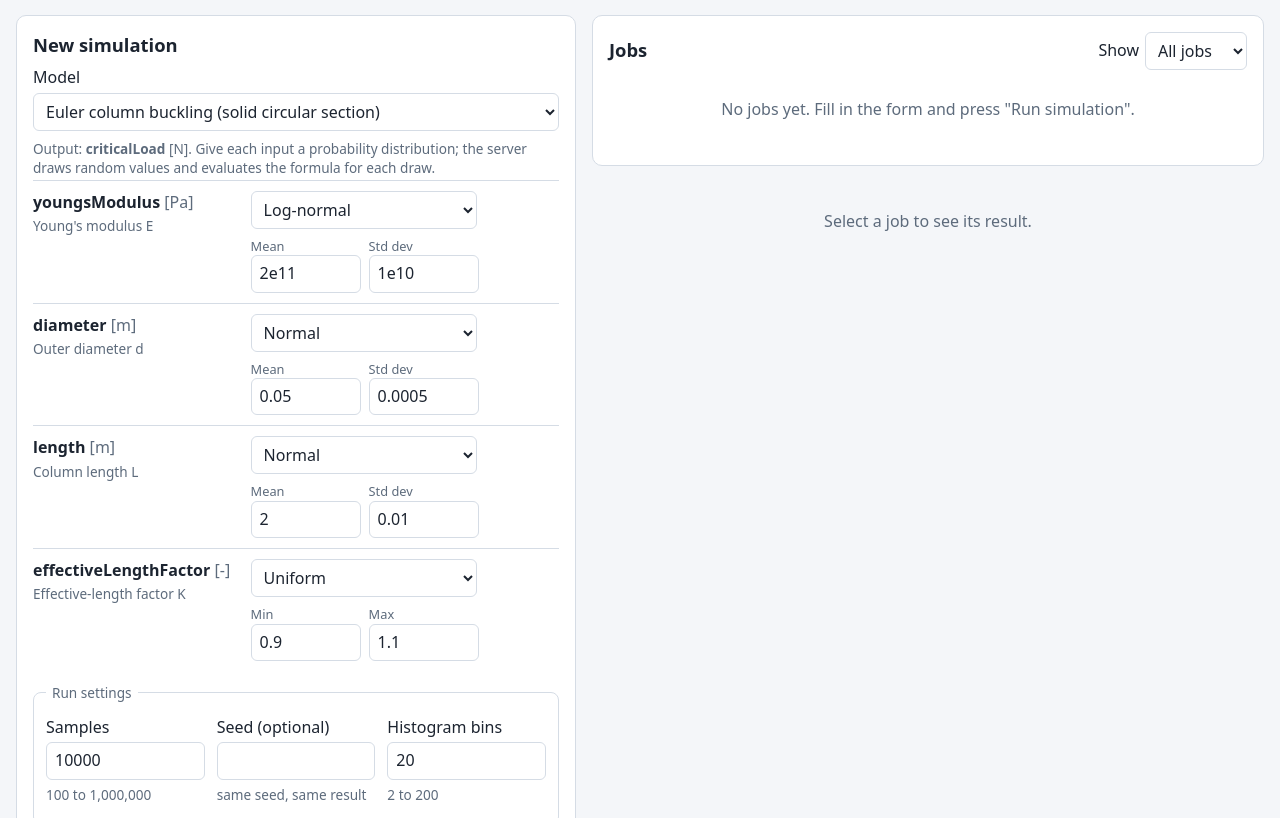
App › checks the values before sending and marks the wrong fields
Expected: the field named "diameter Mean" is shown, [251,378,361,415]
Replace the text in the field labelled "Samples" with "50". click: [125, 761]
box: [46,742,205,780]
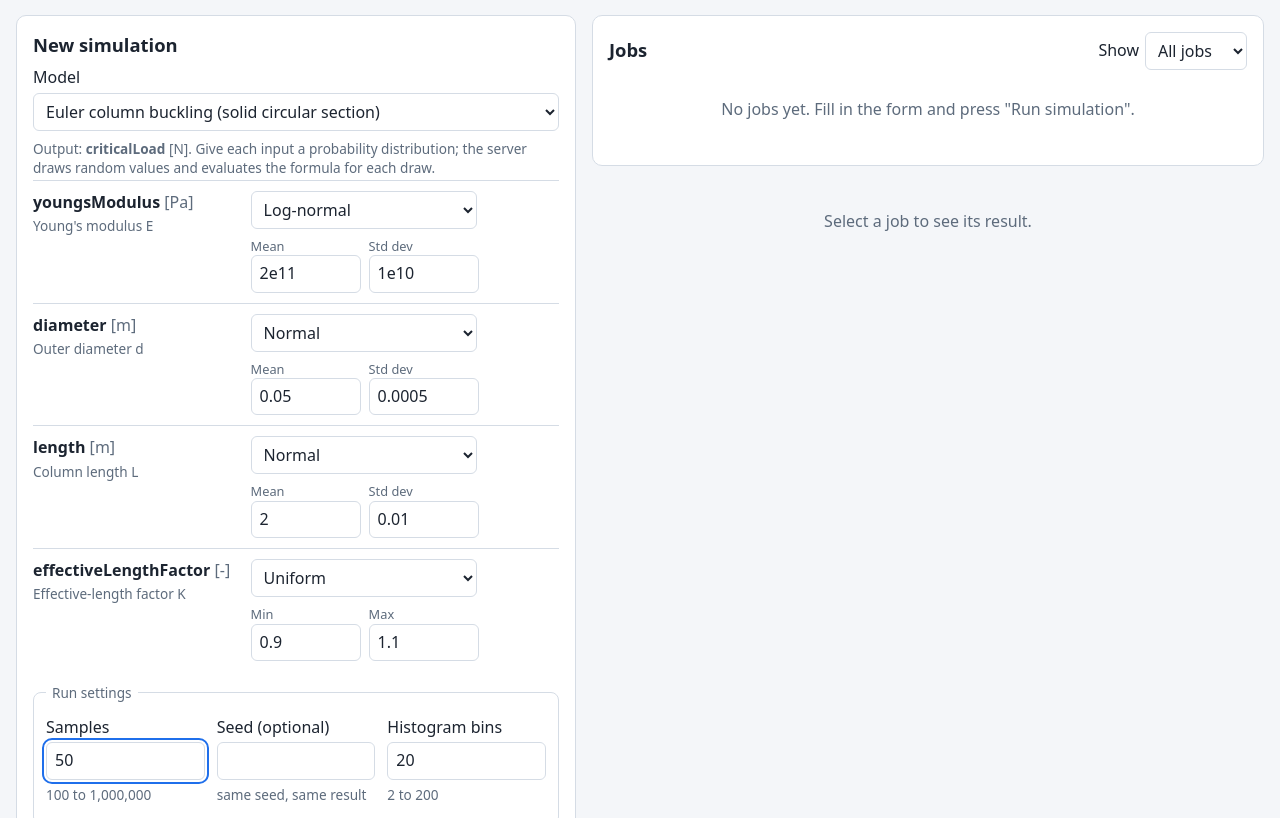
Clear the field named "diameter Mean". click: [306, 397]
box: [251,378,361,415]
(page scrolled)
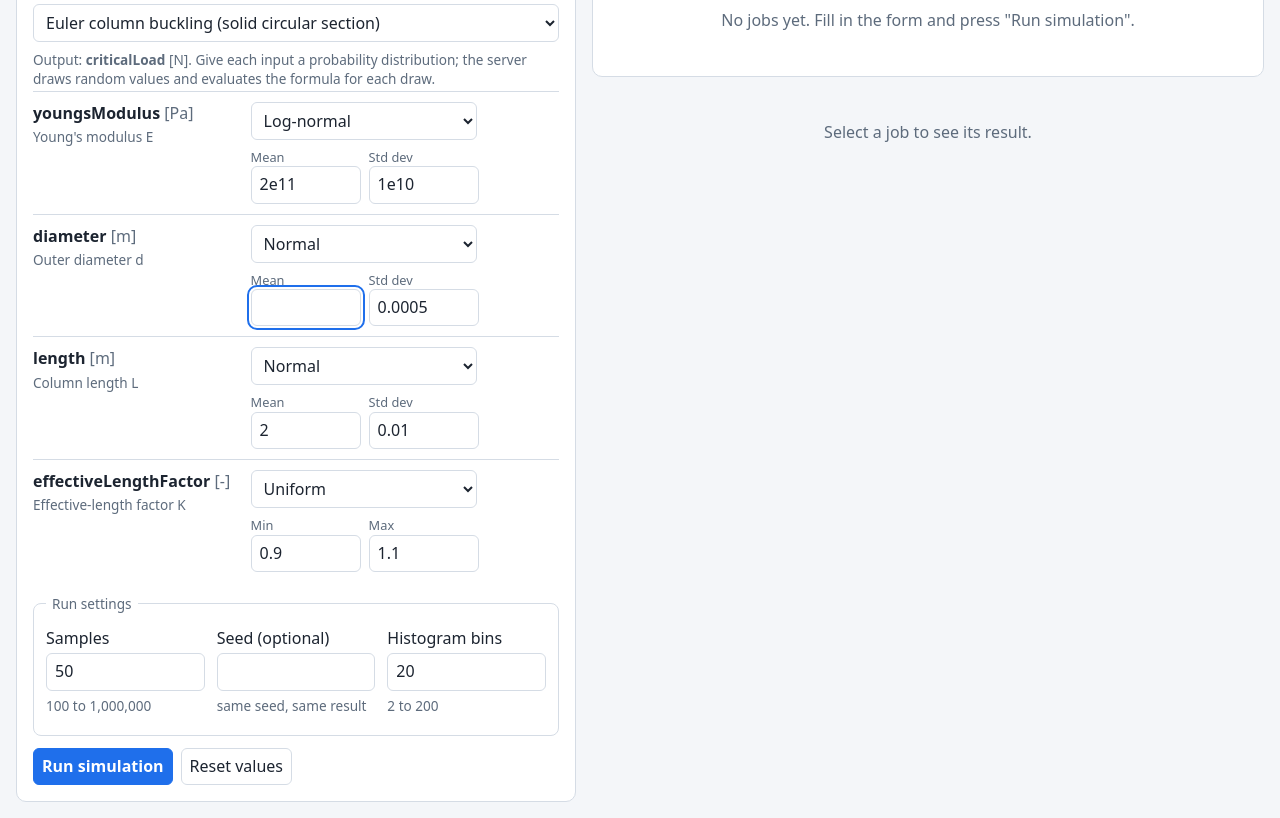
Click the button "Run simulation". click: [103, 767]
box: [33,748,173,785]
(page scrolled)
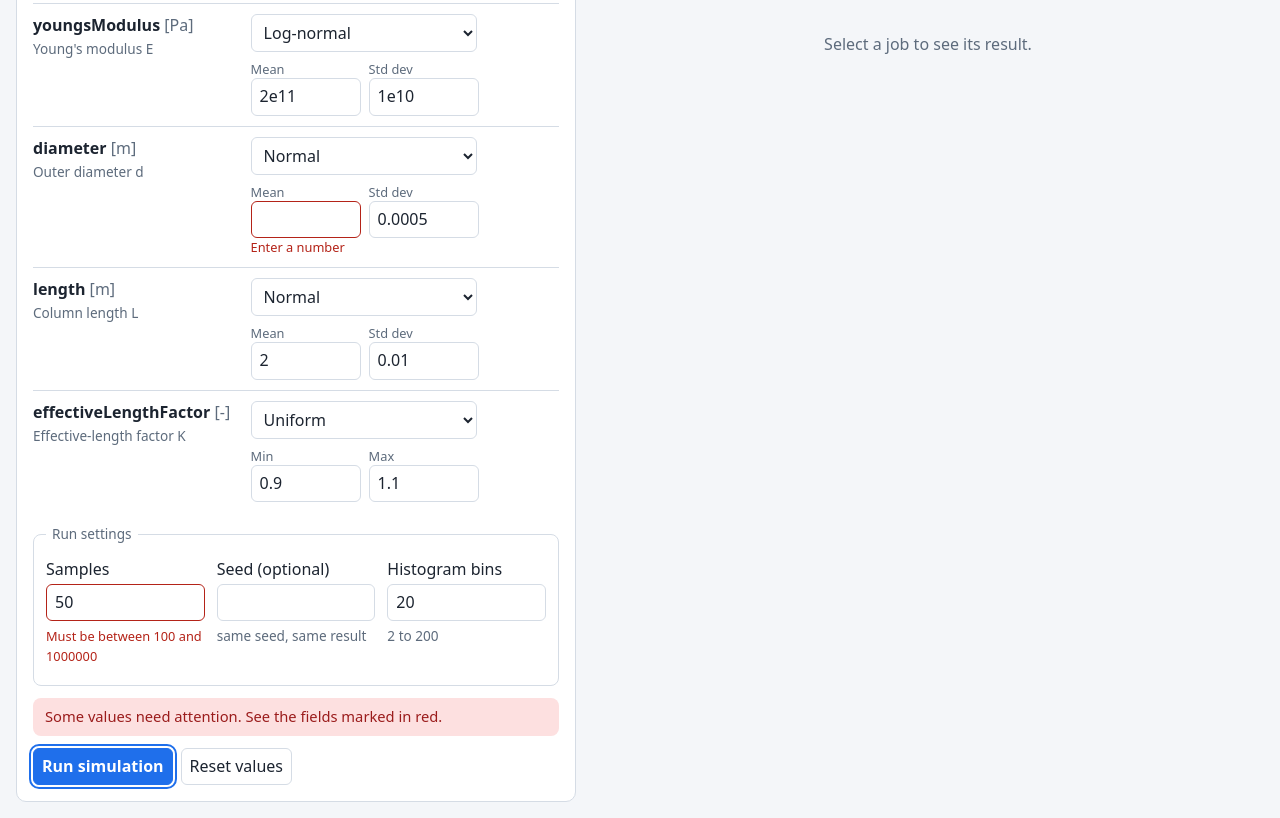
Now the text "Must be between 100 and 1000000" is shown, box [46,627,202,665]
Now the text "Enter a number" is shown, box [251,238,361,257]
Now the message shows "Some values need attention", box [45,706,442,726]
